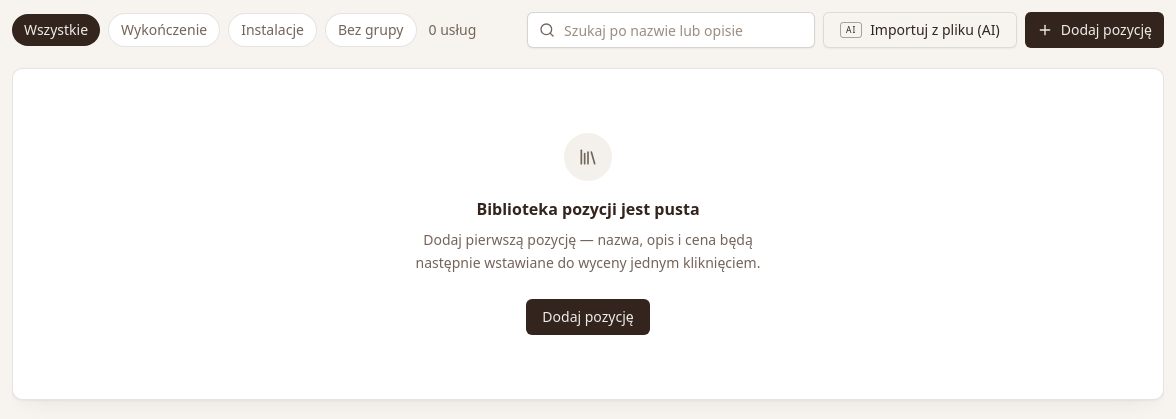
Test: LibraryItemsTab — filtry › rozroznia pusta biblioteke od pustego wyniku filtrowania
This screenshot has width=1176, height=419.
Check: the heading "Biblioteka pozycji jest pusta" is shown, box [476,197,700,221]
Click the button "Wykończenie" at (164, 30), box [108,13,220,47]
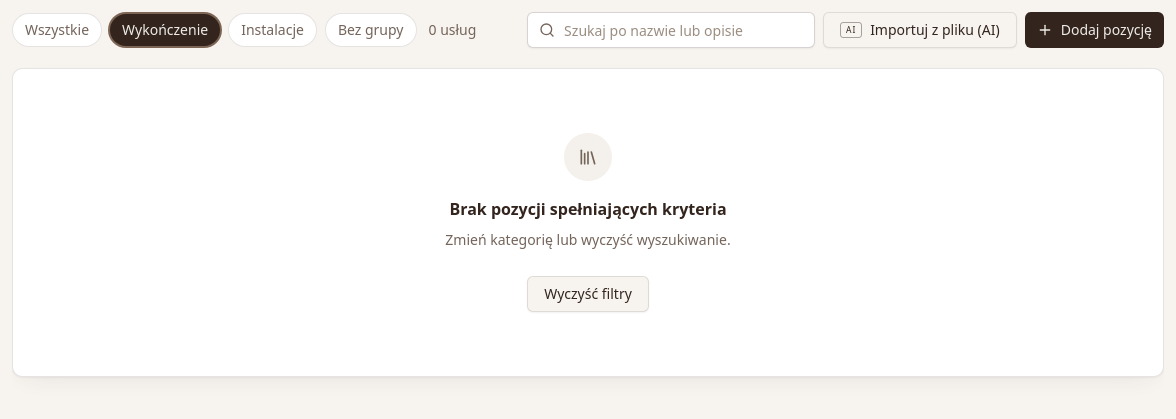
Check: the heading "Brak pozycji spełniających kryteria" is shown, box [449,197,726,221]
